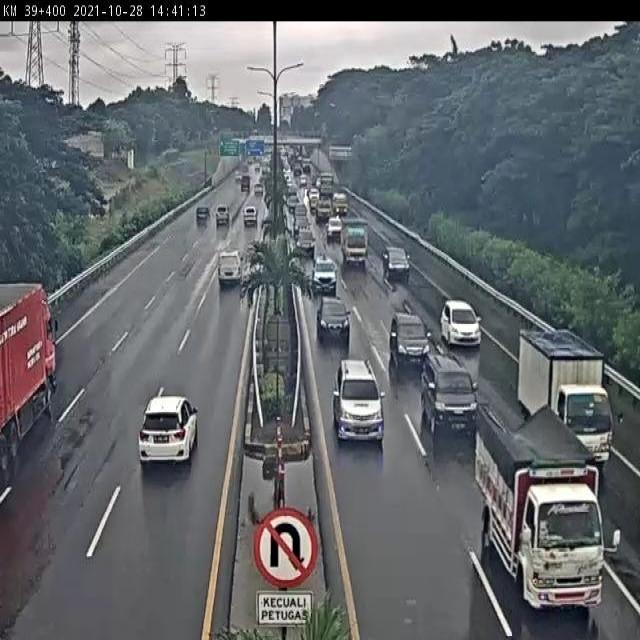car: (131, 361, 231, 447), (332, 356, 386, 449), (421, 353, 479, 439), (390, 312, 433, 373), (210, 247, 247, 297), (440, 300, 482, 344), (317, 297, 351, 343), (310, 255, 338, 296), (385, 245, 411, 280), (238, 205, 257, 227), (215, 197, 230, 223), (197, 197, 211, 220)
truck-m-: (474, 403, 603, 609), (344, 221, 370, 271)
truck-s-: (517, 327, 613, 469)
